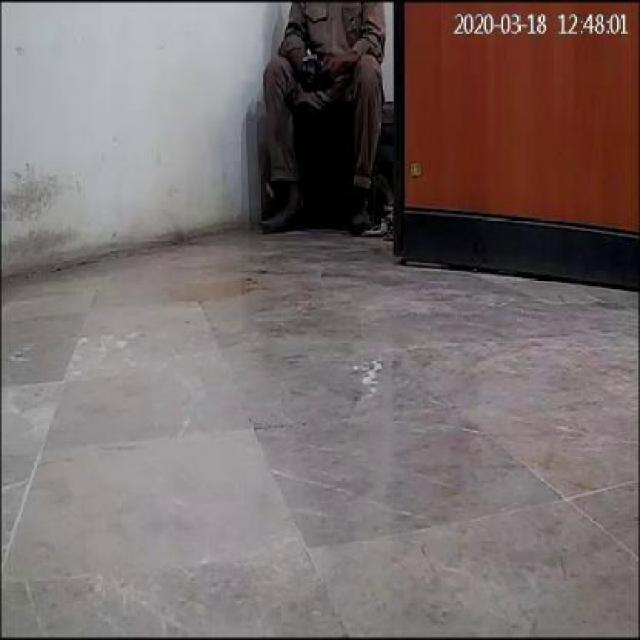spill: (175, 270, 258, 304)
